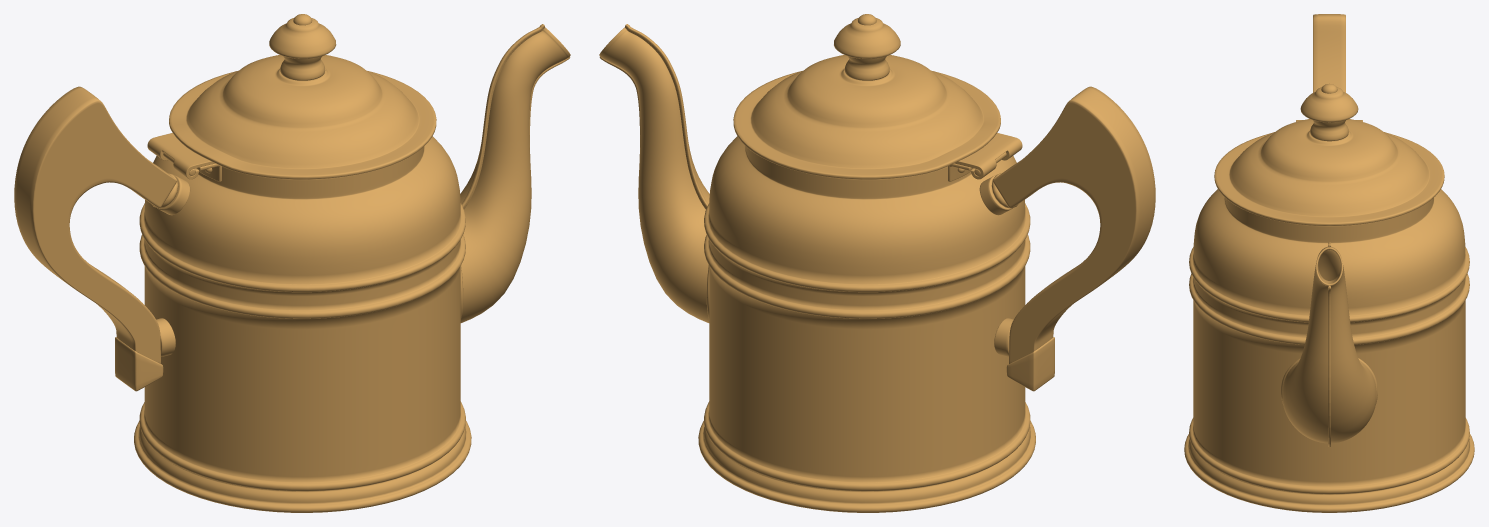
File: Tea_kettle.fbx
3 renders of one model, left to right at view 1: azimuth 30°, elevation 25°; view 2: azimuth 150°, elevation 25°; view 3: azimuth 270°, elevation 25°, orthographic. The views are drawn at different scales.
Visible parts, largest first — view 1: Tea_kettle_Krishka.001, Tea_kettle_Krishka; view 2: Tea_kettle_Krishka.001, Tea_kettle_Krishka; view 3: Tea_kettle_Krishka.001, Tea_kettle_Krishka.
Boxes of the visible parts, x1,y1,x2,y2 form: Tea_kettle_Krishka.001: (14,24,570,512); Tea_kettle_Krishka: (147,14,436,179); Tea_kettle_Krishka.001: (599,24,1155,512); Tea_kettle_Krishka: (733,14,1022,179); Tea_kettle_Krishka.001: (1184,14,1474,512); Tea_kettle_Krishka: (1214,83,1444,225).
Size of the model in its own units: 328 by 246 by 176.
